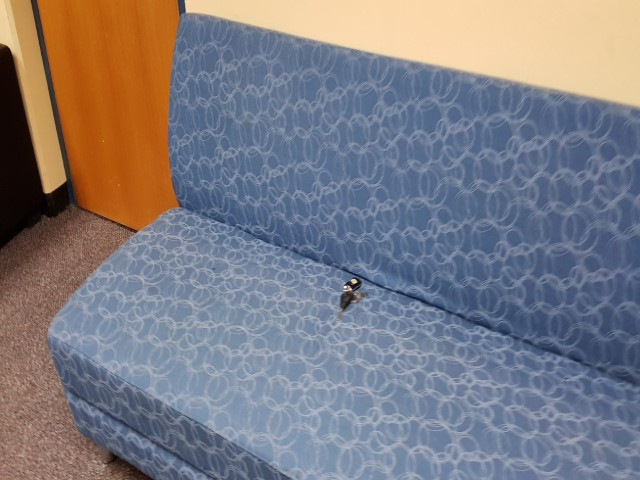key: (336, 291, 355, 319)
